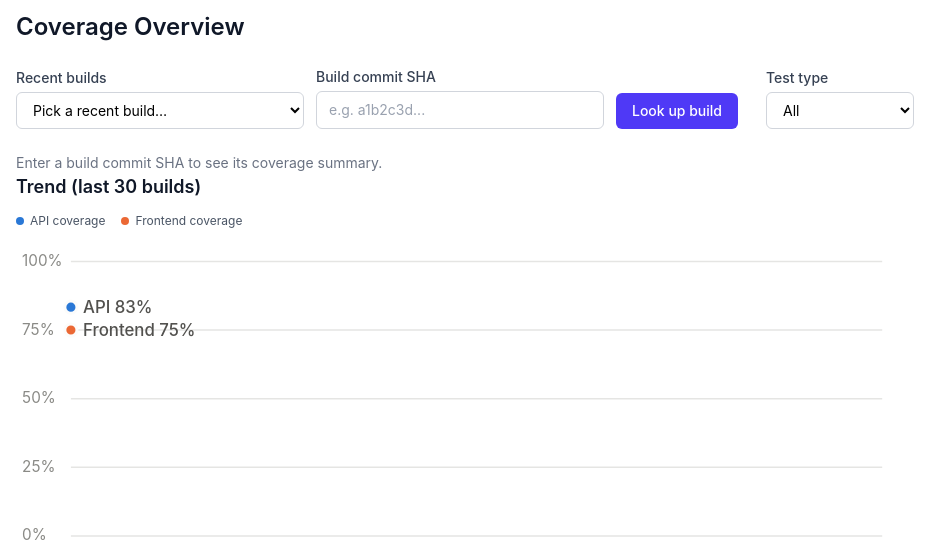
Scenario: OverviewPage › shows a loading state while the summary request is in flight
Type "abc123" into the field with test id "commit-sha-input".
click(460, 110); type("abc123")  # box [316,91,604,129]
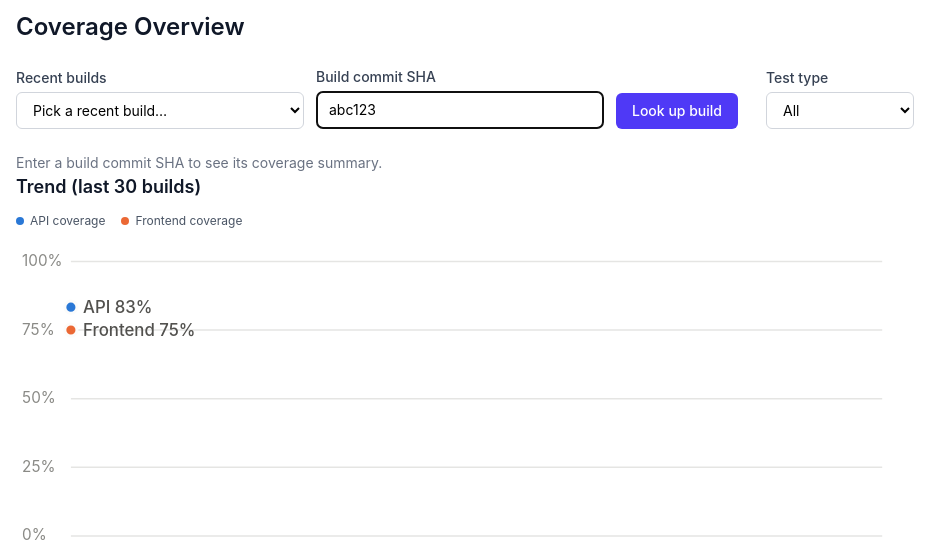
Click the button with test id "commit-sha-submit-button".
click(677, 111)  # box [616,93,738,129]
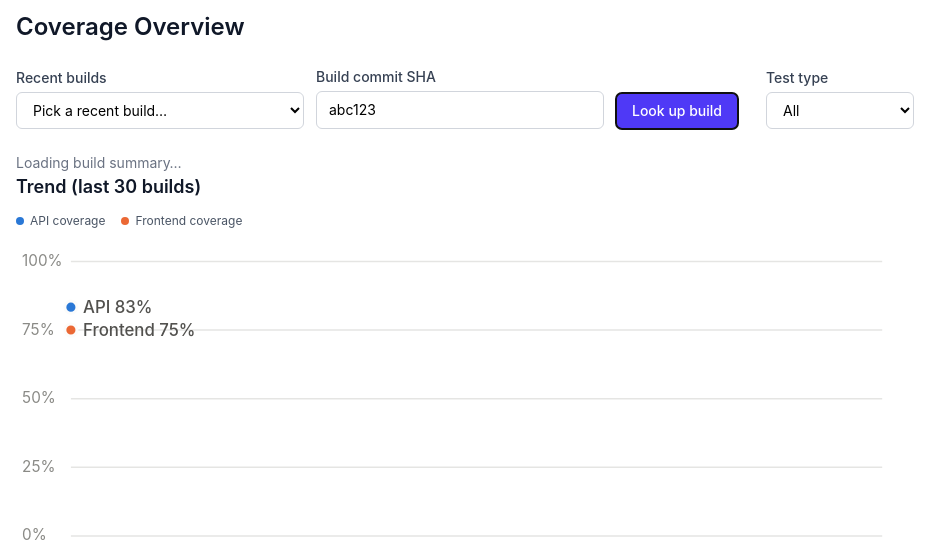
Expected: the text "Loading build summary…" is shown, [16,154,182,171]
